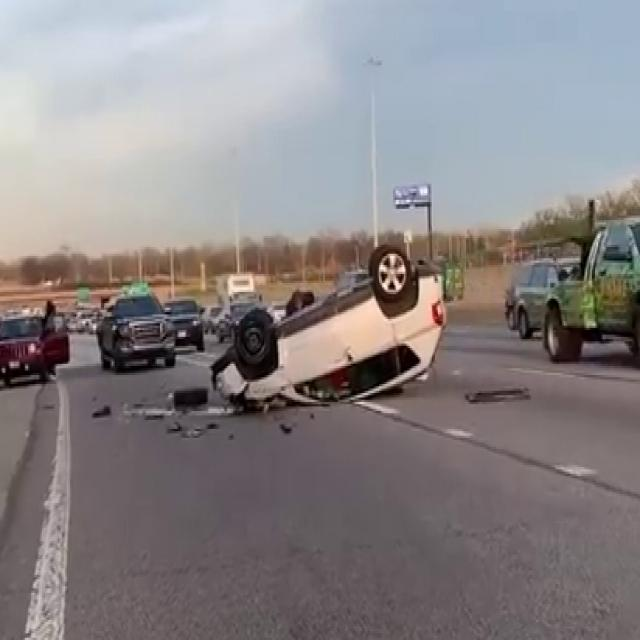accident: (194, 234, 452, 419)
